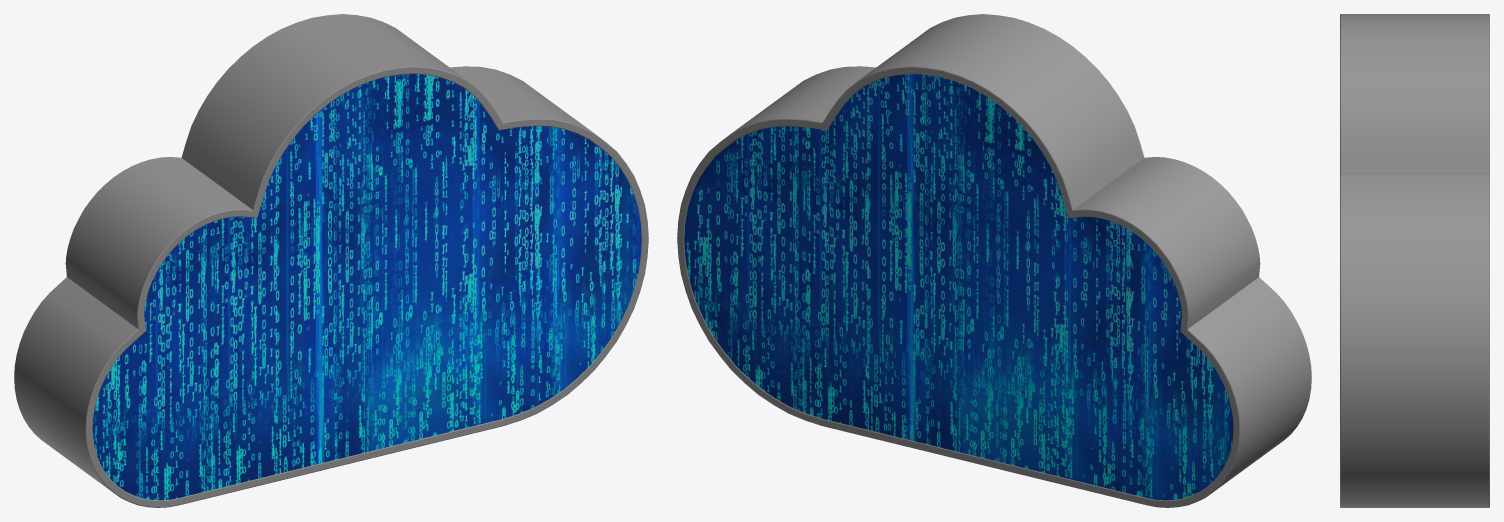
File: cloud1.FBX
The picture shows the model from 3 angles, left to right: view 1: azimuth 30°, elevation 25°; view 2: azimuth 150°, elevation 25°; view 3: azimuth 270°, elevation 25°; orthographic projection. The views are drawn at different scales.
Parts seen in each view (by area): view 1: yun; view 2: yun; view 3: yun.
Boxes of the visible parts, x1,y1,x2,y2 form: yun: [14, 14, 648, 507]; yun: [677, 14, 1311, 507]; yun: [1340, 14, 1489, 507].
Bounding box in the file's own units: 160 × 105 × 35.45.
Materials: 2 (1 with a texture image).
